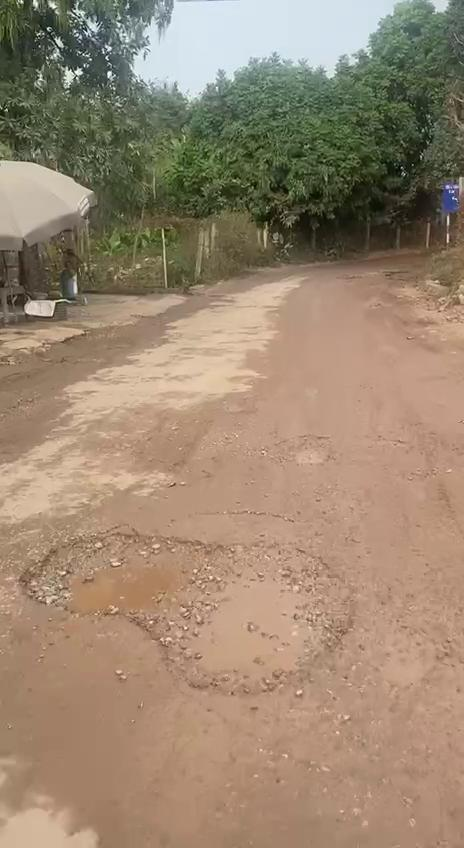pothole: (20, 528, 361, 698), (374, 624, 450, 700), (259, 435, 340, 472)
